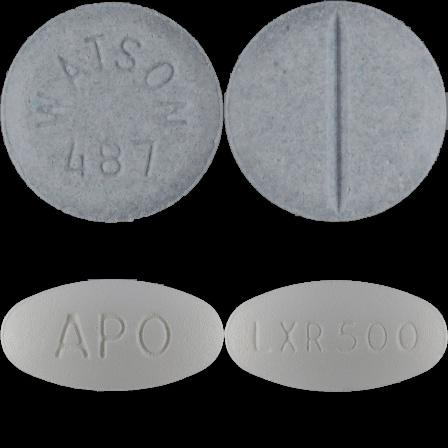60429-328: (0, 0, 224, 224)
